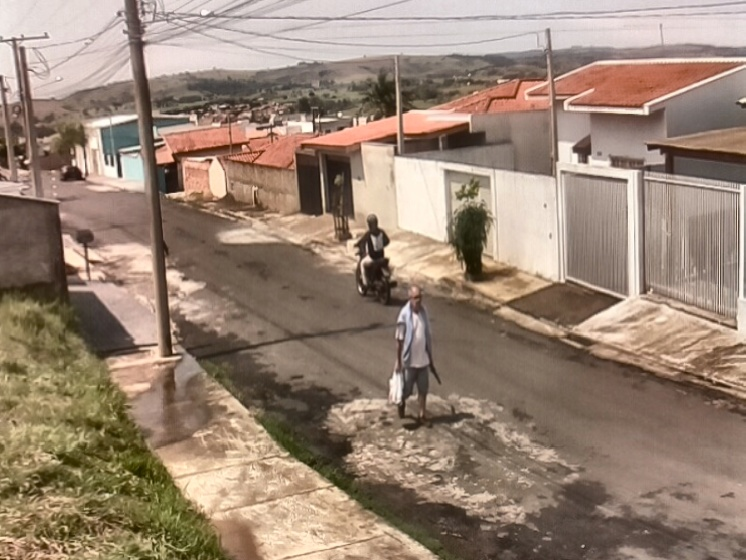person: (393, 286, 436, 428), (356, 212, 387, 291)
